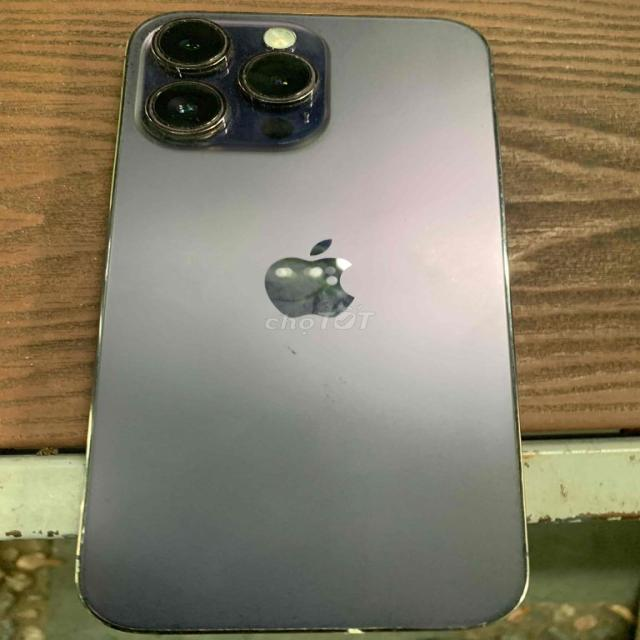gen_14: (69, 5, 535, 640)
scratch: (142, 74, 235, 153), (59, 487, 112, 615), (230, 46, 332, 108), (146, 12, 235, 78), (312, 620, 392, 636)
